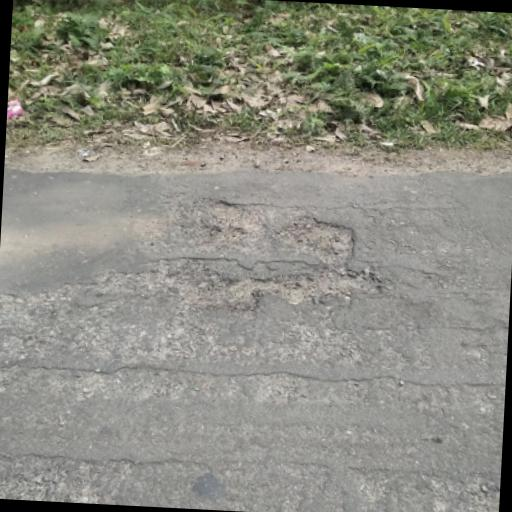pothole: (164, 192, 392, 322)
